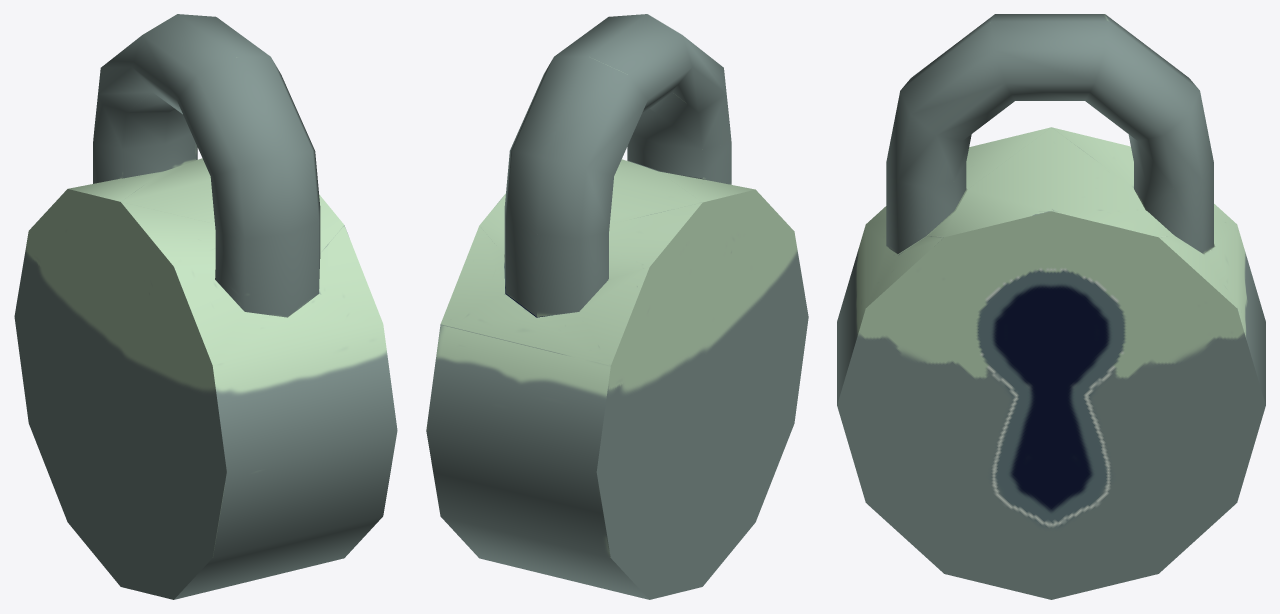
Rendered from lock.fbx.
3 views of the same model, side by side, from view 1: azimuth 30°, elevation 25°; view 2: azimuth 150°, elevation 25°; view 3: azimuth 270°, elevation 25° (orthographic).
Visible parts, largest first — view 1: lock, lock.001; view 2: lock, lock.001; view 3: lock, lock.001.
Boxes of the visible parts, left/top/right/bottom form: lock: left=14, top=158, right=397, bottom=599; lock.001: left=93, top=14, right=320, bottom=317; lock: left=426, top=159, right=808, bottom=599; lock.001: left=504, top=14, right=731, bottom=316; lock: left=837, top=127, right=1265, bottom=599; lock.001: left=886, top=14, right=1213, bottom=253.
Size of the model in its own units: 0.4638 by 1.38 by 1.
